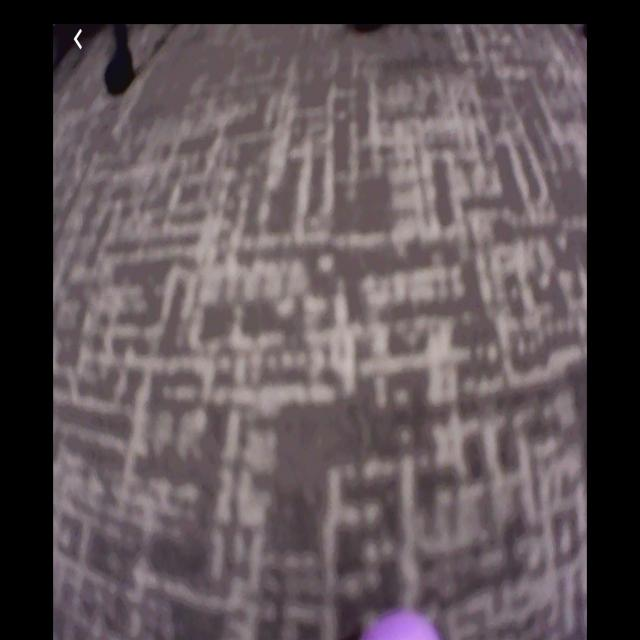ball: (362, 613, 444, 640)
